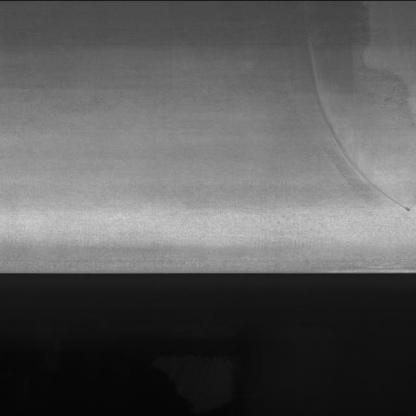crease: (287, 22, 410, 217)
